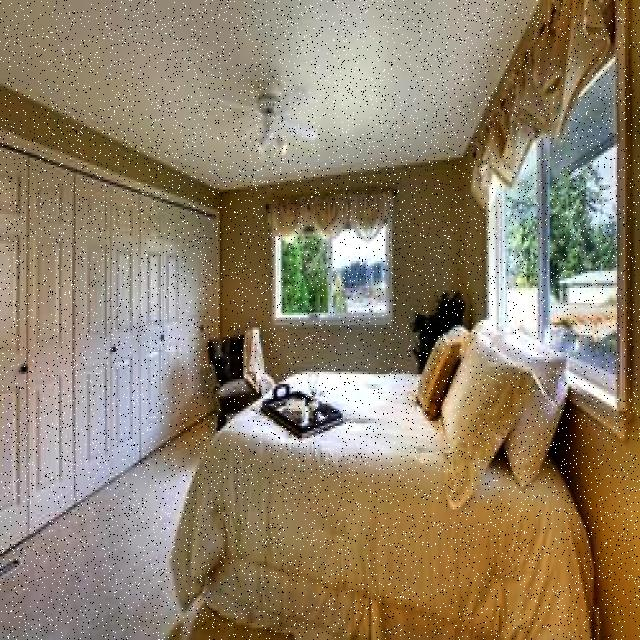bed: (226, 309, 591, 640)
